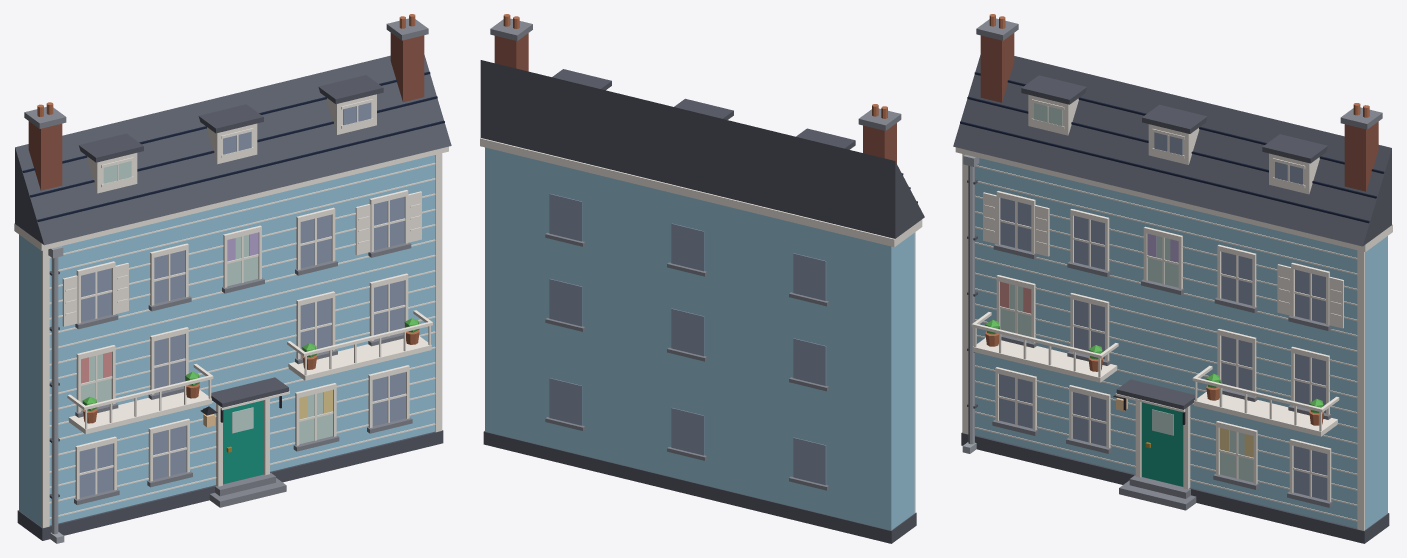
The model's file is CatCafe_Alley_Building_Townhouses.glb.
The picture shows the model from 3 angles, left to right: view 1: azimuth 30°, elevation 25°; view 2: azimuth 150°, elevation 25°; view 3: azimuth 330°, elevation 25°; orthographic projection.
Visible parts, largest first — view 1: CatCafe_Alley_Building_Townhouses, CatCafe_Alley_Building_Townhouses_Pane; view 2: CatCafe_Alley_Building_Townhouses; view 3: CatCafe_Alley_Building_Townhouses, CatCafe_Alley_Building_Townhouses_Pane.
Part boxes in pixels (x1,y1,x2,y2): CatCafe_Alley_Building_Townhouses: (14, 14, 451, 543); CatCafe_Alley_Building_Townhouses_Pane: (81, 161, 332, 444); CatCafe_Alley_Building_Townhouses: (480, 14, 924, 543); CatCafe_Alley_Building_Townhouses: (953, 14, 1392, 543); CatCafe_Alley_Building_Townhouses_Pane: (1000, 103, 1253, 482).
Bounding box in the file's own units: 30.6 × 30.1 × 5.45.
1 material, 1 textured.
